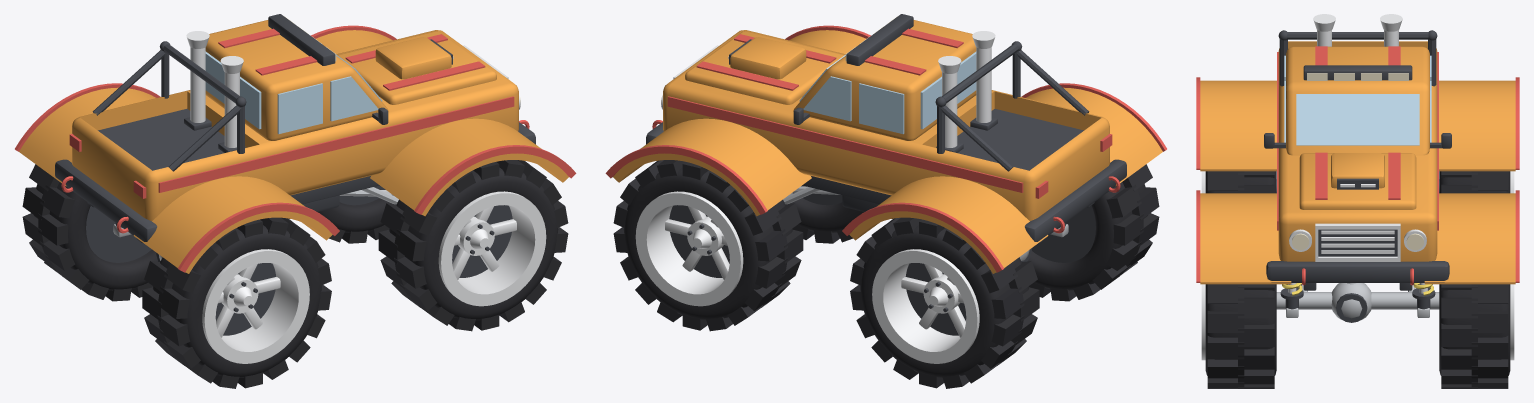
The model's file is MonsterTruck.fbx.
The picture shows the model from 3 angles, left to right: view 1: azimuth 30°, elevation 25°; view 2: azimuth 150°, elevation 25°; view 3: azimuth 270°, elevation 25°; orthographic projection. The views are drawn at different scales.
Visible parts, largest first — view 1: Body, Rubber.001, Chrome.002, Dark.010, Accent.003, Glass.001, Metal.003; view 2: Body, Rubber.001, Chrome.002, Dark.010, Accent.003, Glass.001, Metal.003; view 3: Body, Rubber.001, Dark.010, Glass.001, Chrome.002, Accent.003, Metal.003, Glow.007.
Part boxes in pixels (bbox=[...]): Body: bbox=[19, 20, 568, 273]; Rubber.001: bbox=[22, 160, 568, 388]; Chrome.002: bbox=[186, 31, 546, 363]; Dark.010: bbox=[55, 14, 535, 335]; Accent.003: bbox=[15, 25, 576, 272]; Glass.001: bbox=[205, 51, 382, 134]; Metal.003: bbox=[113, 187, 398, 260]; Body: bbox=[613, 20, 1162, 273]; Rubber.001: bbox=[613, 160, 1159, 388]; Chrome.002: bbox=[635, 31, 995, 363]; Dark.010: bbox=[646, 14, 1126, 335]; Accent.003: bbox=[605, 25, 1166, 272]; Glass.001: bbox=[799, 51, 976, 134]; Metal.003: bbox=[783, 186, 1068, 260]; Body: bbox=[1200, 41, 1515, 284]; Rubber.001: bbox=[1205, 171, 1510, 388]; Dark.010: bbox=[1264, 30, 1451, 322]; Glass.001: bbox=[1284, 55, 1431, 145]; Chrome.002: bbox=[1201, 14, 1514, 360]; Accent.003: bbox=[1196, 46, 1519, 285]; Metal.003: bbox=[1276, 179, 1439, 320]; Glow.007: bbox=[1292, 73, 1423, 250].
Bounding box in the file's own units: 22.34 × 14.12 × 15.5.
